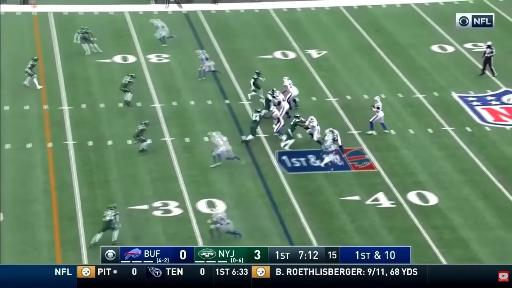Helmet: (107, 203, 116, 209), (270, 106, 277, 112), (142, 120, 149, 126), (31, 56, 38, 62), (208, 132, 214, 138), (127, 74, 136, 78), (308, 116, 315, 121), (294, 114, 301, 119), (375, 96, 380, 102), (283, 77, 289, 82), (256, 71, 262, 76), (82, 26, 87, 31), (271, 88, 276, 93), (276, 91, 281, 96), (255, 109, 261, 113), (150, 19, 155, 23), (197, 49, 202, 53)
Jersey: (286, 118, 306, 139), (101, 209, 118, 232), (284, 80, 298, 101), (324, 129, 341, 145), (214, 132, 229, 150), (250, 112, 261, 136), (371, 102, 383, 122), (134, 124, 147, 142), (120, 76, 134, 92), (25, 60, 36, 77), (79, 31, 93, 43), (307, 121, 322, 132), (264, 92, 273, 110), (251, 75, 261, 91), (275, 91, 285, 105), (271, 113, 285, 123), (199, 52, 208, 67), (218, 212, 229, 223), (154, 19, 167, 28), (374, 102, 382, 112)
Player: (91, 205, 120, 246), (208, 132, 240, 167), (281, 115, 306, 150), (366, 96, 389, 134), (208, 213, 242, 238), (74, 27, 102, 54), (242, 109, 262, 143), (150, 19, 174, 46), (23, 57, 43, 89), (321, 140, 343, 167), (272, 89, 290, 118), (324, 128, 344, 154), (283, 77, 298, 109), (134, 121, 149, 153), (120, 74, 135, 106), (306, 116, 322, 145), (270, 106, 284, 138), (248, 71, 264, 99), (74, 27, 90, 54), (200, 58, 219, 78), (196, 50, 209, 79), (263, 89, 275, 117)
